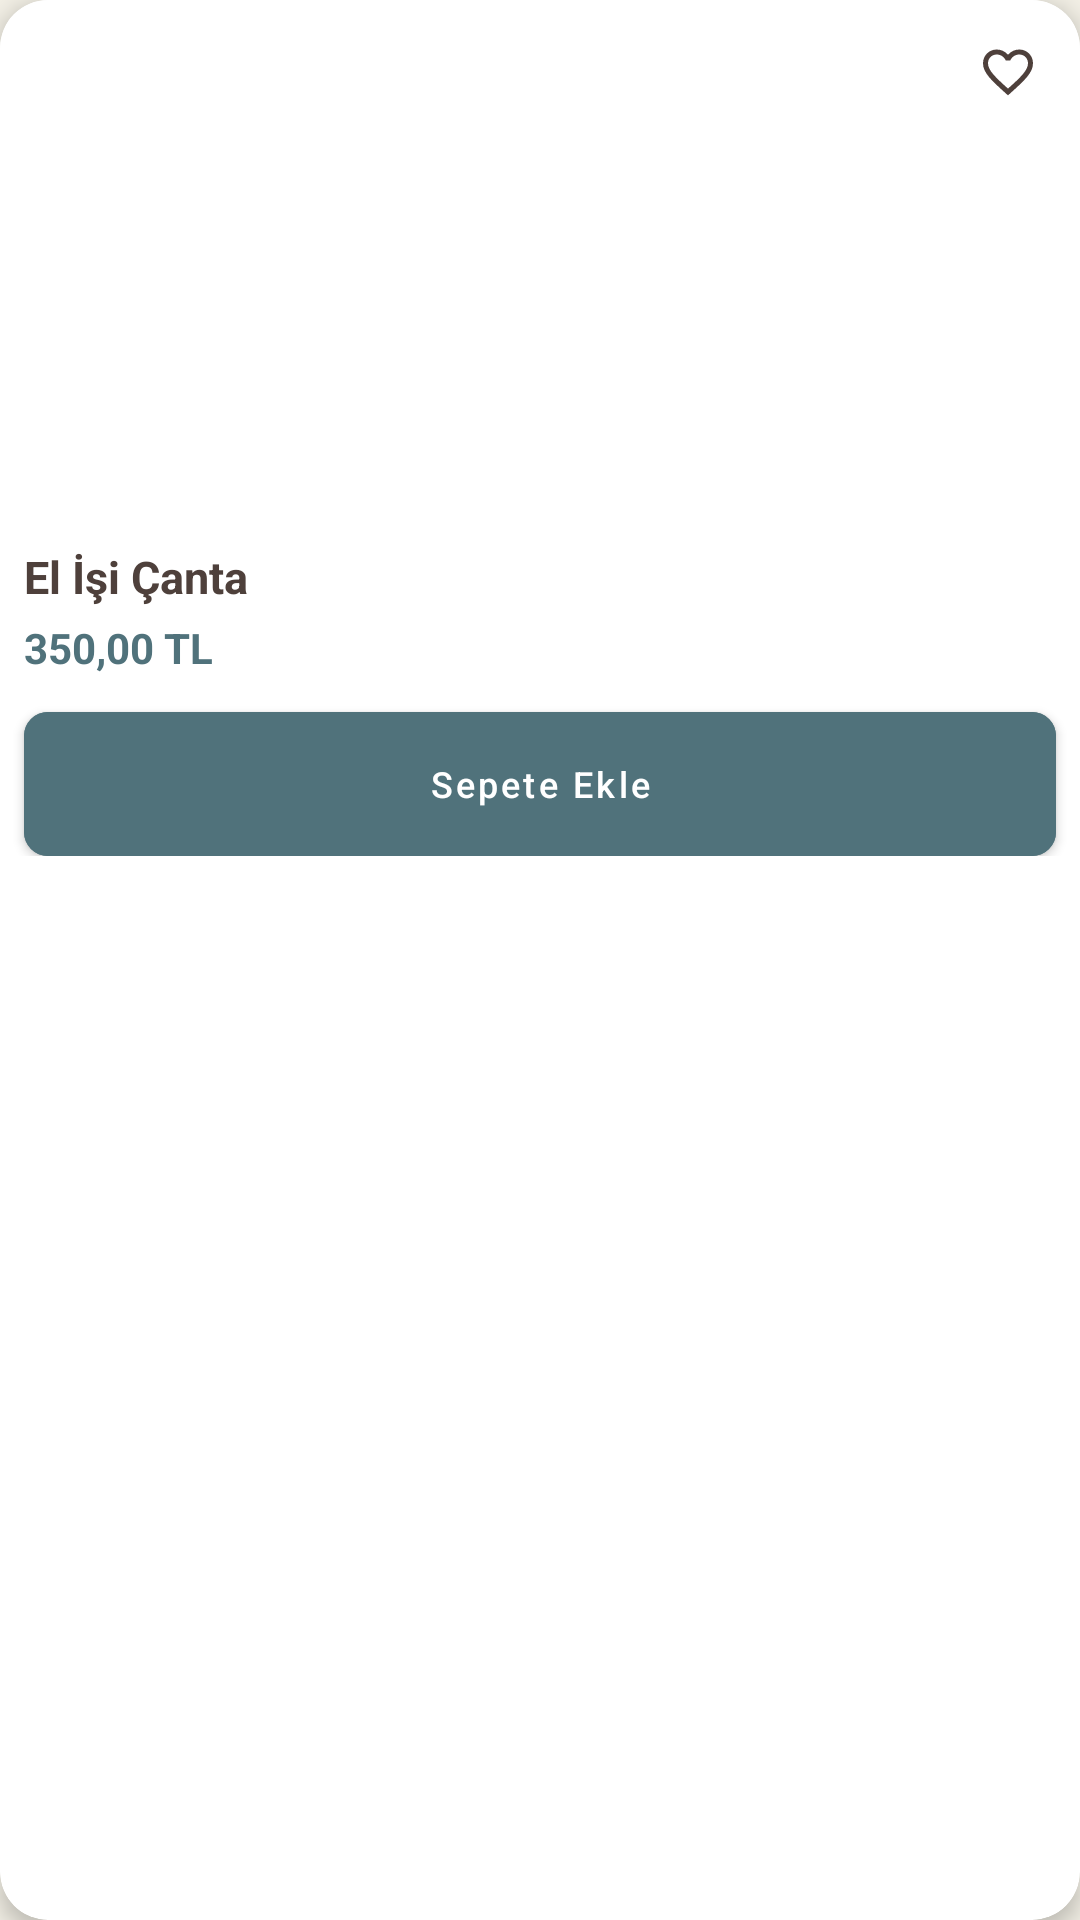

Icon click points for this 1080×1920 phone screenshot, format [x,y]:
fav ikon: [1008,72]
